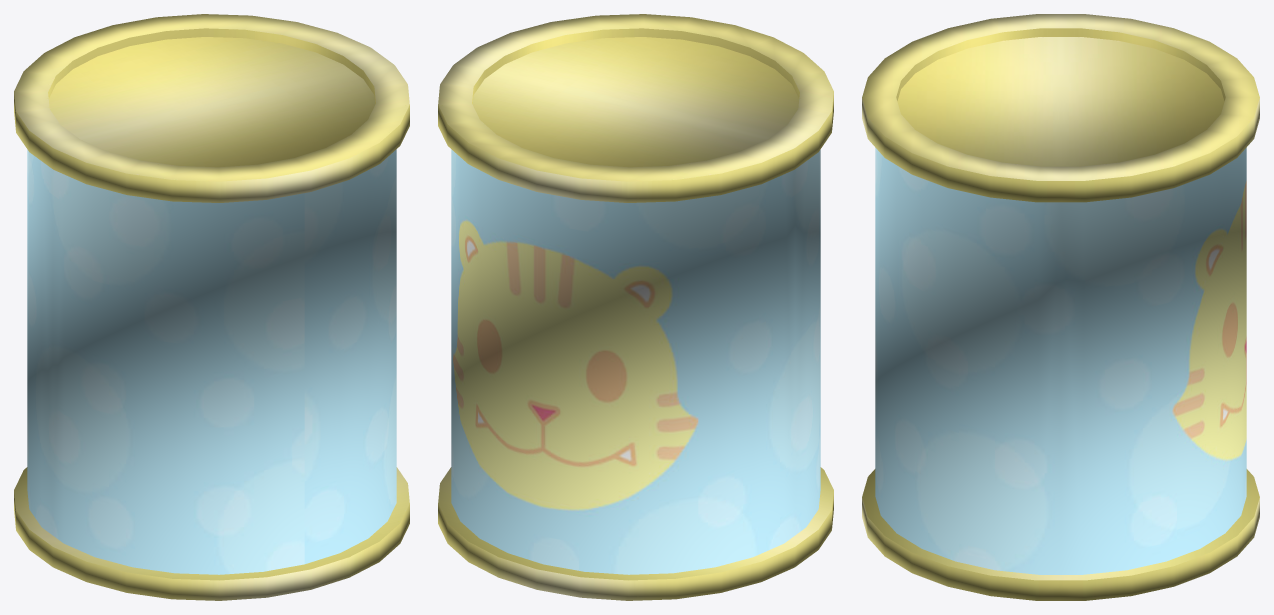
File: Jar2.glb
3 views of the same model, side by side, from view 1: azimuth 30°, elevation 25°; view 2: azimuth 150°, elevation 25°; view 3: azimuth 270°, elevation 25° (orthographic).
Parts seen in each view (by area): view 1: jar; view 2: jar; view 3: jar.
Part boxes in pixels (x1,y1,x2,y2): jar: (14,14,409,600); jar: (438,14,833,600); jar: (862,14,1259,600).
Size of the model in its own units: 1.33 by 1.56 by 1.34.
Materials: 1 (1 with a texture image).
